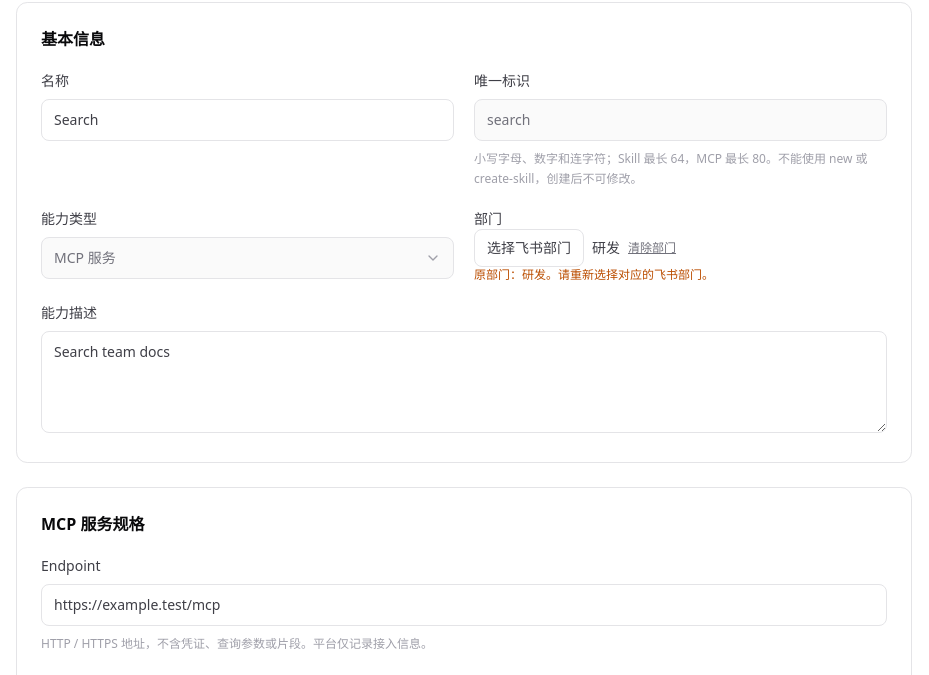
Test: keeps unsaved content on conflicts
Replace the text in the field labelled "名称" with "Unsaved change" at (248,120), box [41,99,454,141]
(page scrolled)
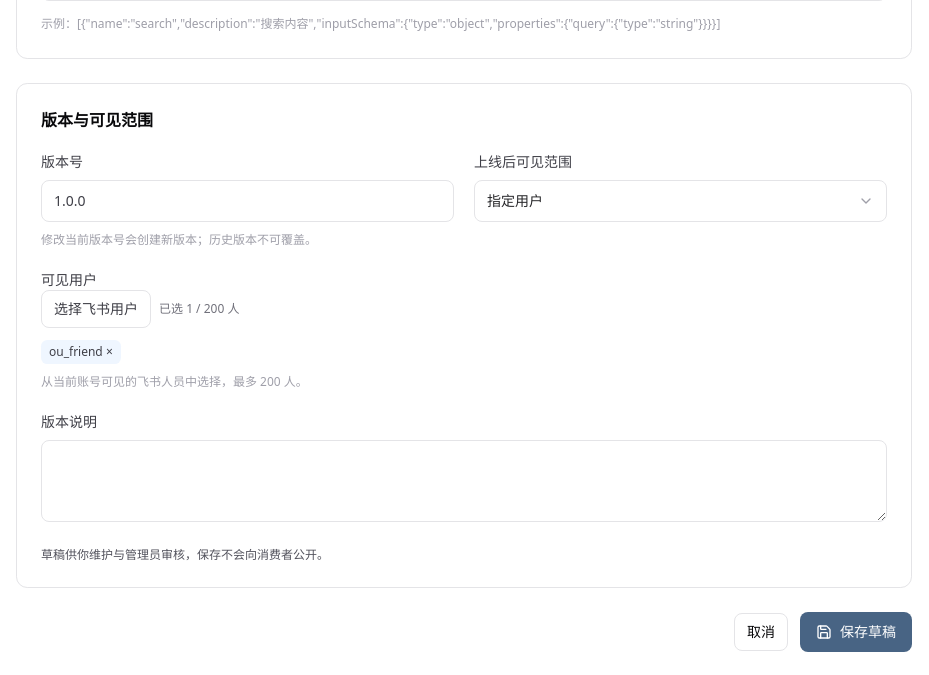
Click the button "保存草稿" at (856,632), box [800,612,912,652]
(page scrolled)
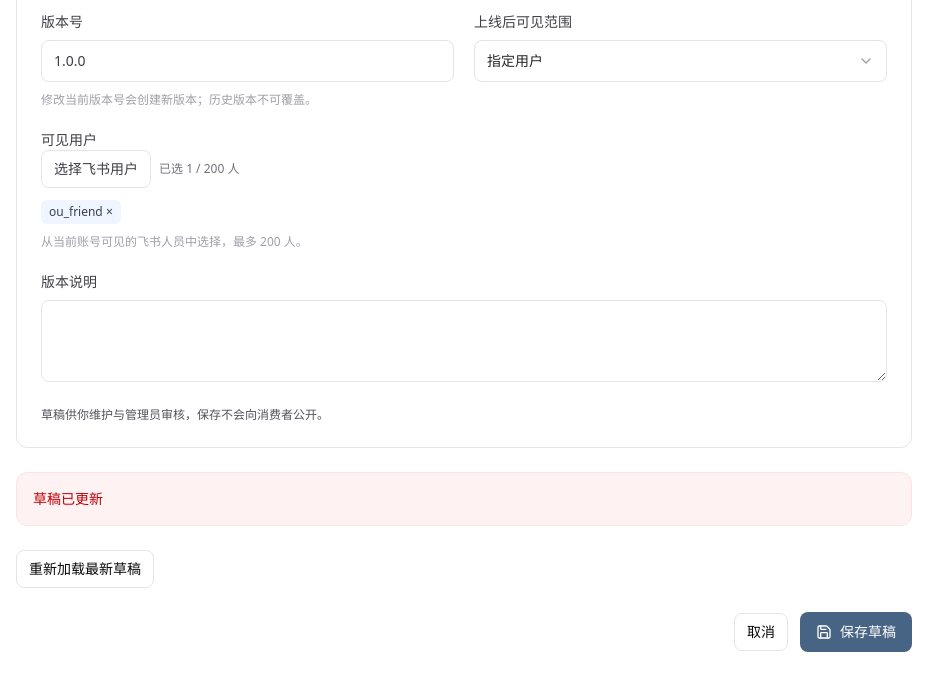
Now the message reads "草稿已更新", box [33,489,103,508]
Now the button "重新加载最新草稿" is shown, box [16,550,154,588]
